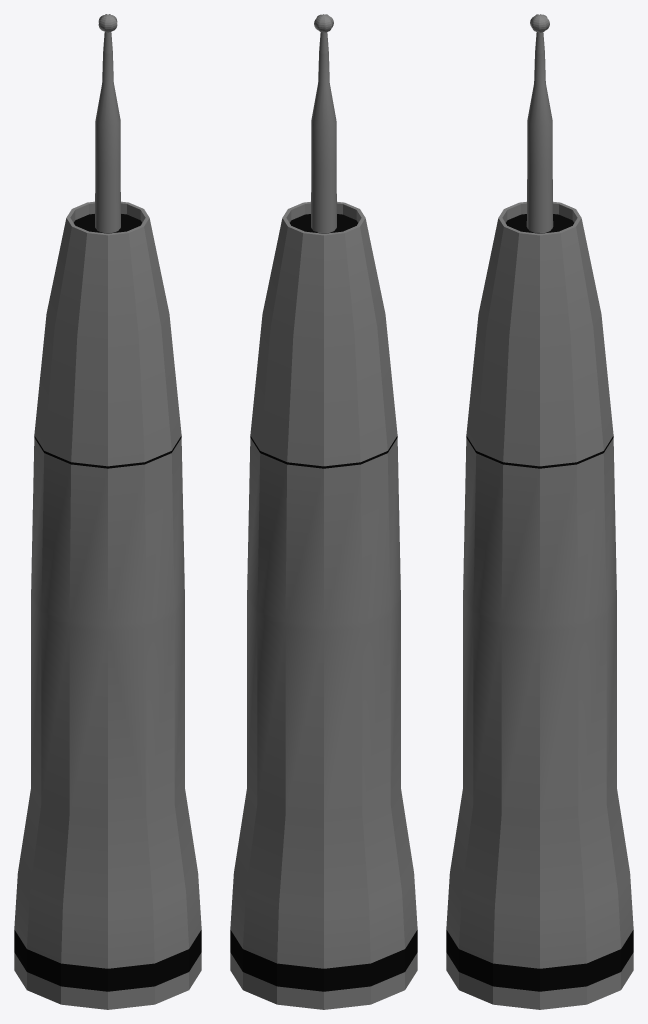
Rendered from Steel_Animation.fbx.
3 views of the same model, side by side, from view 1: azimuth 30°, elevation 25°; view 2: azimuth 150°, elevation 25°; view 3: azimuth 270°, elevation 25° (orthographic).
Visible parts, largest first — view 1: pCylinder14, pSphere3; view 2: pCylinder14, pSphere3; view 3: pCylinder14, pSphere3.
Boxes of the visible parts, x1,y1,x2,y2 form: pCylinder14: [14, 201, 201, 1009]; pSphere3: [95, 14, 120, 232]; pCylinder14: [230, 201, 417, 1009]; pSphere3: [311, 14, 336, 232]; pCylinder14: [446, 201, 633, 1009]; pSphere3: [526, 14, 553, 232].
Bounding box in the file's own units: 1.63 × 9.19 × 1.63.
